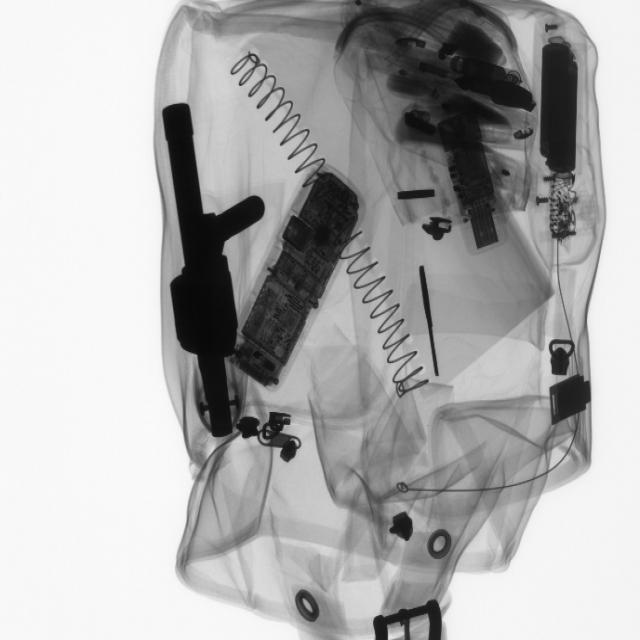GUN: (156, 95, 252, 448)
